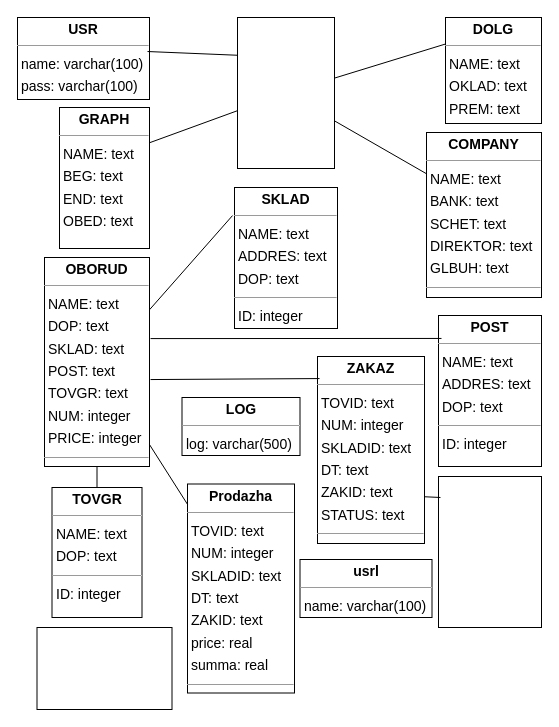
Image size: 559x727. Some labels were removed from this diagram. The shapes that lost their labels are listed below. From the top down, each one's centre as x and y in pixels, then its label:
At pixel 285 92: "SOTRUD FAM: text NAME: text OTCH: text DOLG: text GRAPH: text".
At pixel 490 552: "ZAK NAME: text ADDRES: text DOP: text ID: integer".
At pixel 104 668: "STATUS id: integer NAME: varchar(100)".
